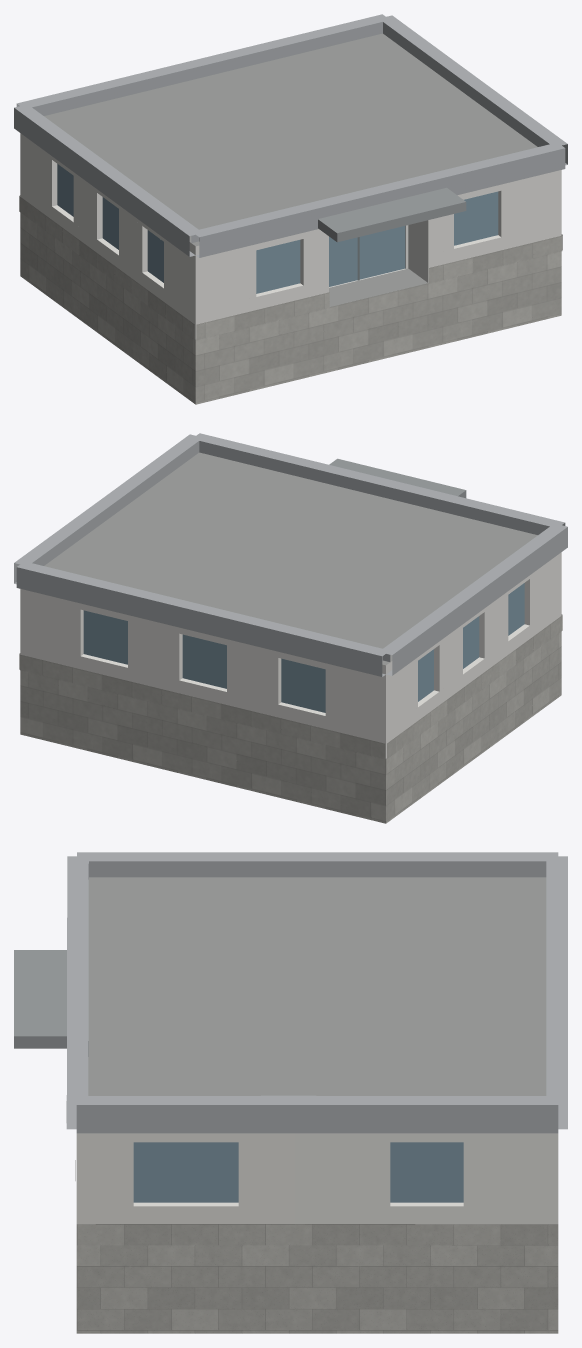
3 renders of one model, top to bottom at view 1: azimuth 30°, elevation 25°; view 2: azimuth 150°, elevation 25°; view 3: azimuth 270°, elevation 25°, orthographic. The views are drawn at different scales.
Visible parts, largest first — view 1: bikeShopN15__roof, bikeShopN15__base, bikeShopN15__trim, bikeShopN15__wall, bikeShopN15__glass, bikeShopN15__canopy; view 2: bikeShopN15__roof, bikeShopN15__base, bikeShopN15__wall, bikeShopN15__trim, bikeShopN15__glass, bikeShopN15__canopy; view 3: bikeShopN15__roof, bikeShopN15__base, bikeShopN15__trim, bikeShopN15__wall, bikeShopN15__glass, bikeShopN15__canopy.
Part boxes in pixels (x1,y1,x2,y2): bikeShopN15__roof: (44, 33, 537, 306); bikeShopN15__base: (19, 195, 562, 404); bikeShopN15__trim: (14, 14, 567, 257); bikeShopN15__wall: (20, 133, 561, 339); bikeShopN15__glass: (57, 164, 498, 293); bikeShopN15__canopy: (318, 187, 466, 242); bikeShopN15__roof: (44, 452, 537, 665); bikeShopN15__base: (19, 614, 562, 823); bikeShopN15__wall: (20, 552, 561, 758); bikeShopN15__trim: (14, 433, 567, 676); bikeShopN15__glass: (83, 583, 524, 712); bikeShopN15__canopy: (329, 458, 466, 498); bikeShopN15__roof: (88, 877, 546, 1095); bikeShopN15__base: (75, 1160, 558, 1333); bikeShopN15__trim: (66, 852, 567, 1133); bikeShopN15__wall: (76, 1133, 558, 1224); bikeShopN15__glass: (133, 1142, 463, 1202); bikeShopN15__canopy: (14, 950, 66, 1048).
Bounding box in the file's own units: 15.25 × 6.55 × 14.12.
Materials: 8 (1 with a texture image).
